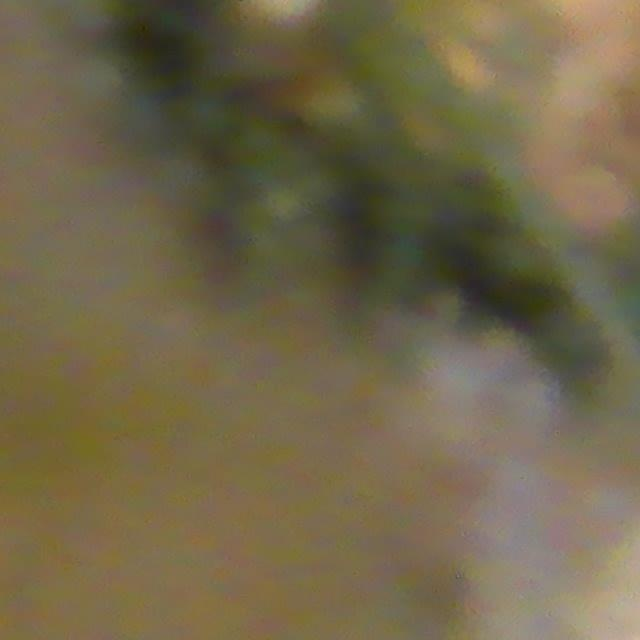SeaGrape: (297, 69, 379, 150)
